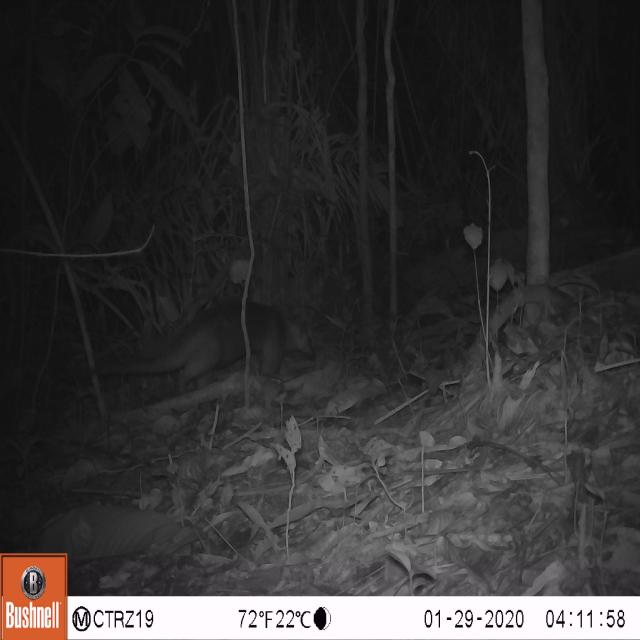Southern Tamandua: (81, 290, 324, 389)
